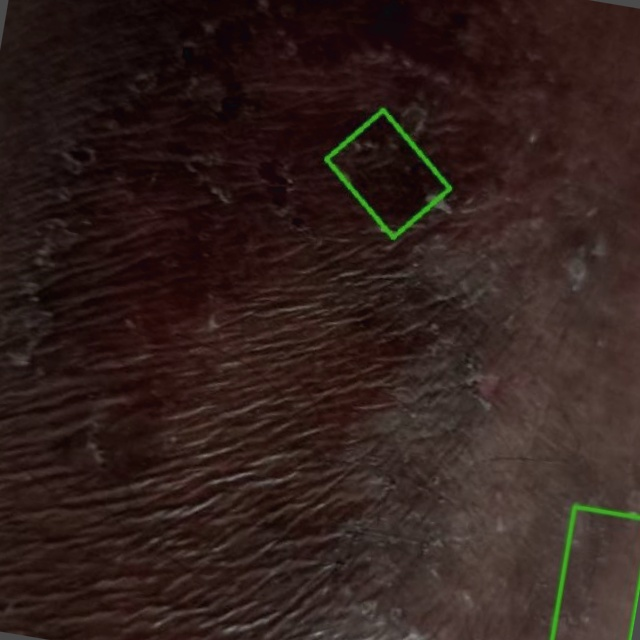Tinea Corporis: (325, 110, 449, 236)
